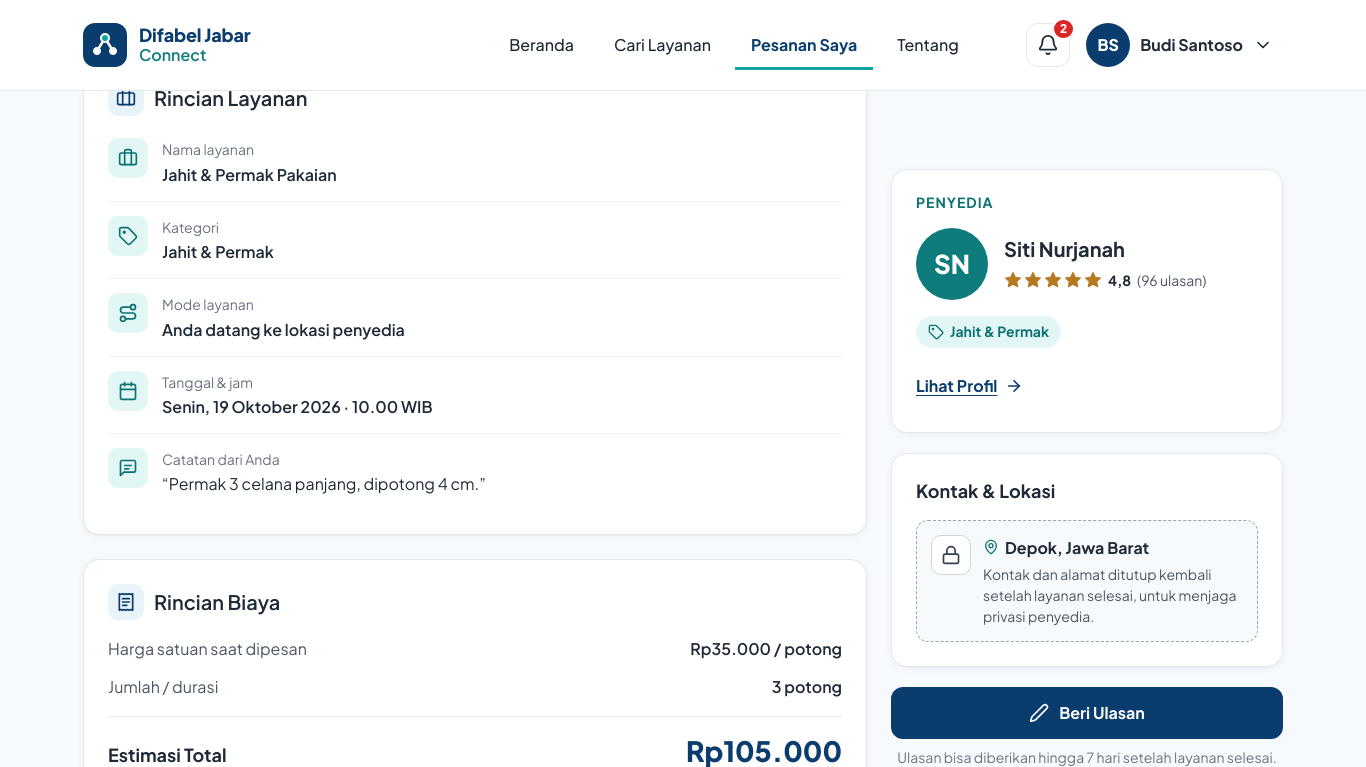
Test: Halaman Detail Pesanan › memberi ulasan: bintang wajib, bisa dengan panah, lalu terkirim
The width and height of the screenshot is (1366, 767).
(page scrolled)
Check: the element "Kontak & Lokasi" shows "ditutup kembali setelah layanan selesai", box [983,565,1236,625]
Click the button with aria-label "Beri ulasan untuk Siti Nurjanah". click: click(1087, 713)
box: [891,687,1283,739]
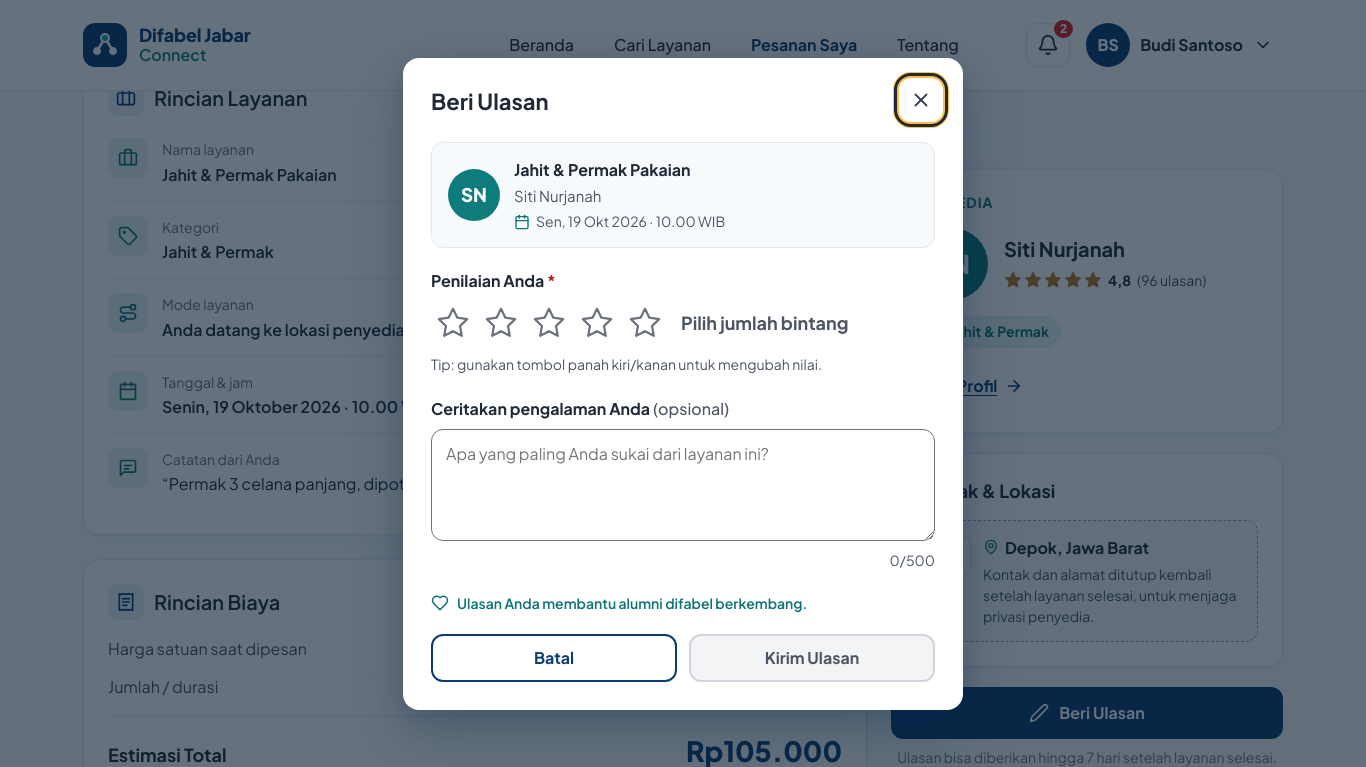
Check: the button "Kirim Ulasan" is disabled, box [689,634,935,682]
Check: the text "Pilih jumlah bintang" is shown, box [681,309,848,338]
Click the radio button named "3 bintang, Cukup". click: click(549, 323)
box: [527,301,571,345]
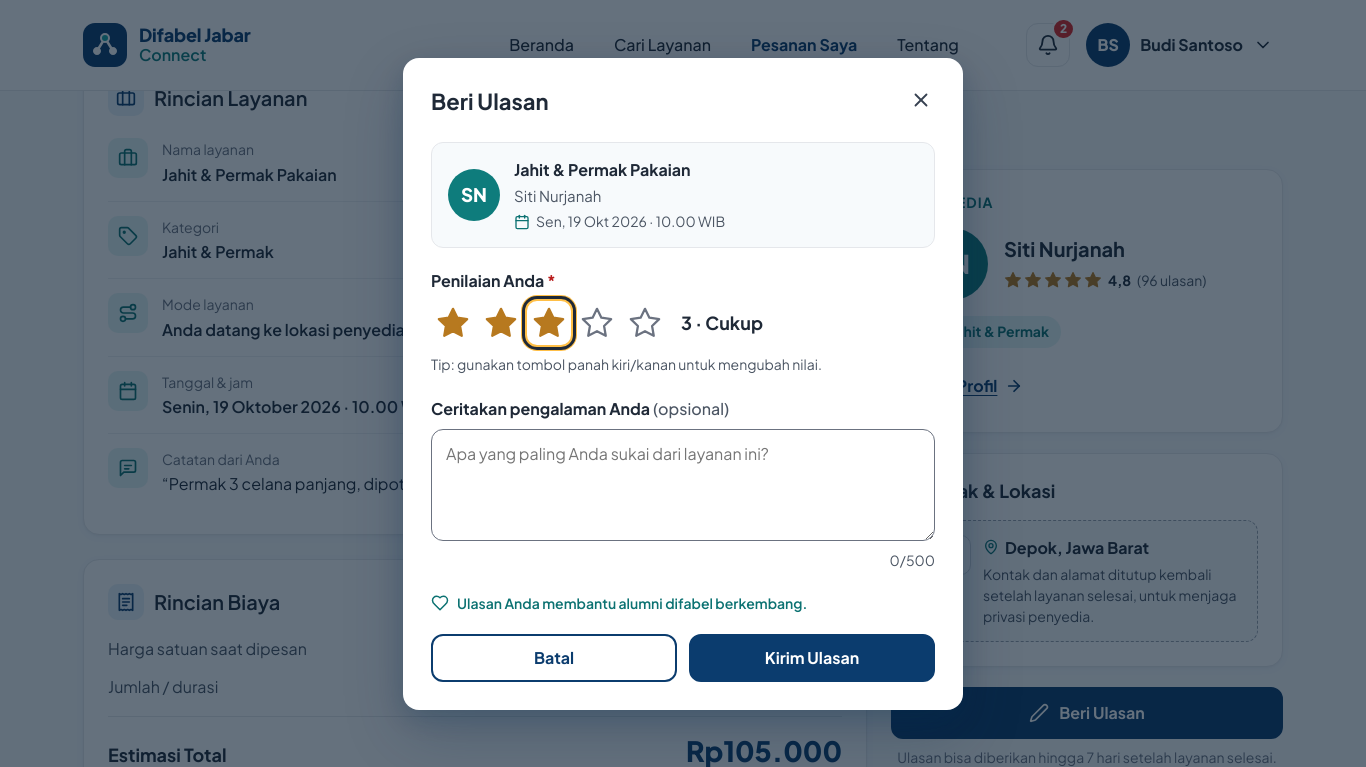
Press Arrowright
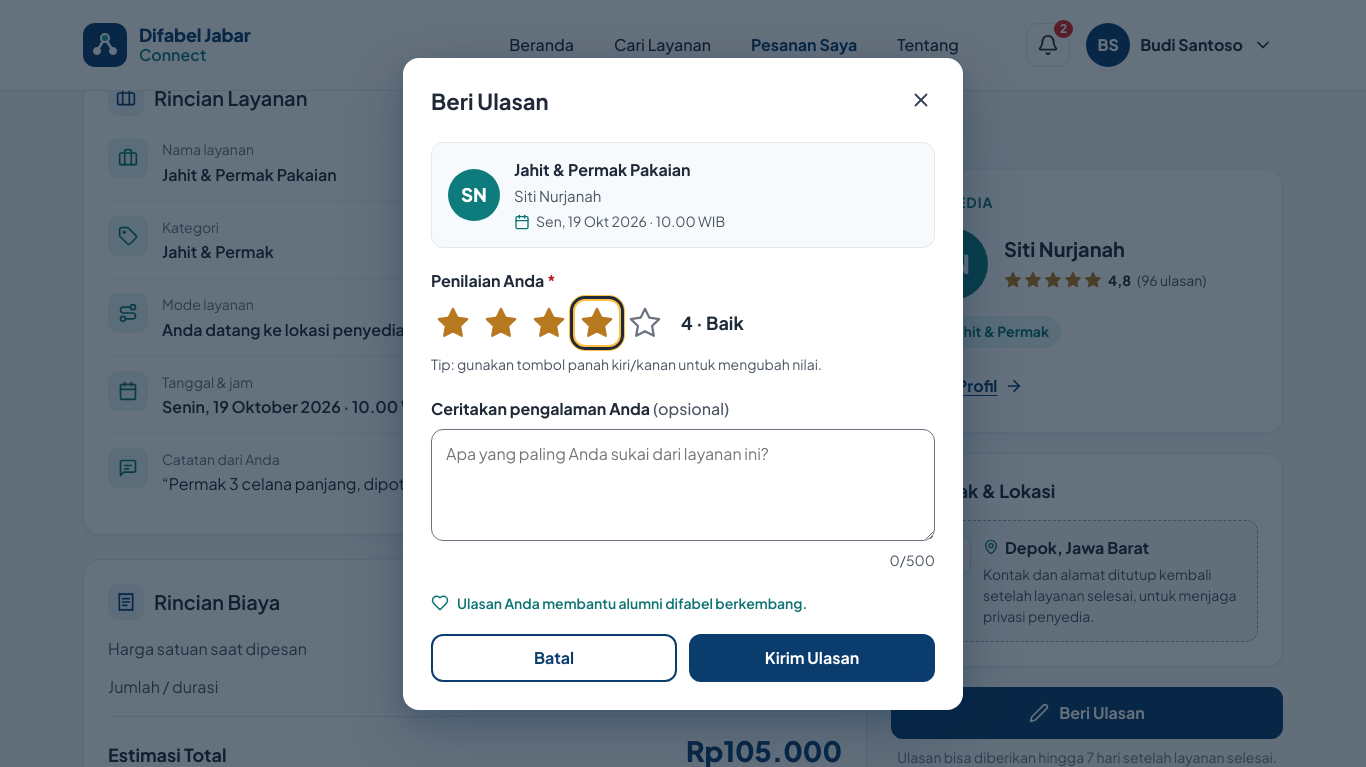
Check: the text "4 · Baik" is shown, box [681,309,744,338]
Type "Rapi sekali" into the text box labelled "Ceritakan pengalaman Anda (opsional)". click: (683, 485)
box: [431,429,935,541]
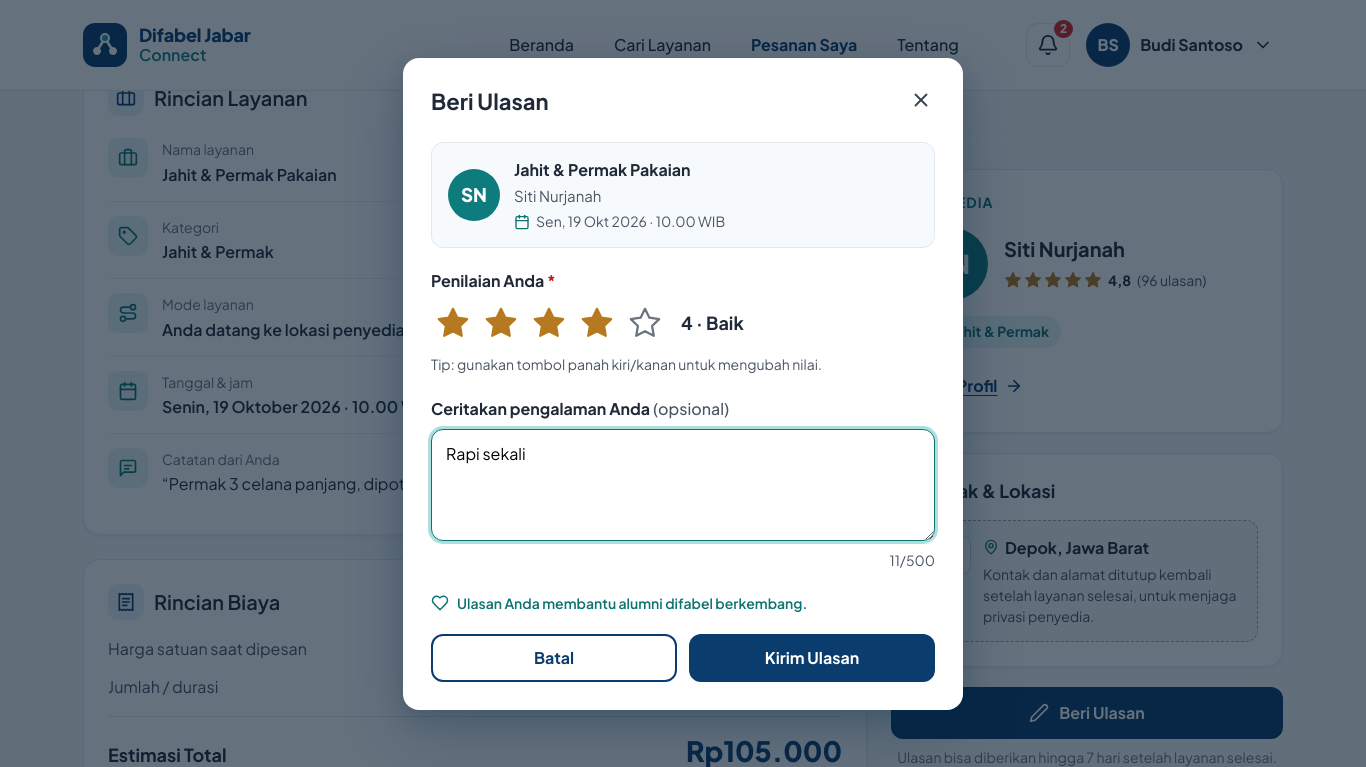
Check: the button "Kirim Ulasan" is enabled
Check: the text "11/500" is shown, box [890,549,935,572]
Click the button "Kirim Ulasan". click: click(812, 658)
box: [689,634,935,682]
(page scrolled)
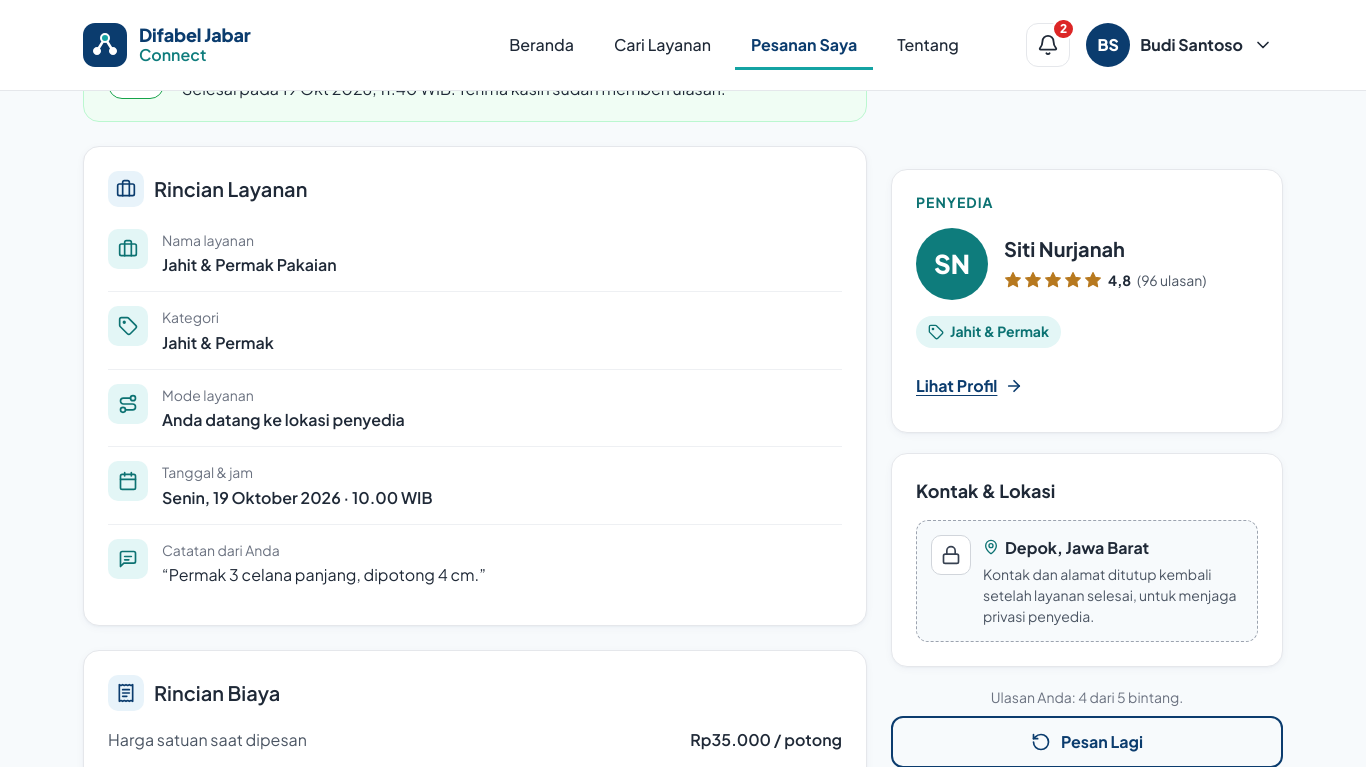
Check: the dialog is gone
Check: the text "Ulasan Anda: 4 dari 5 bintang." is shown, box [991,688,1183,706]
